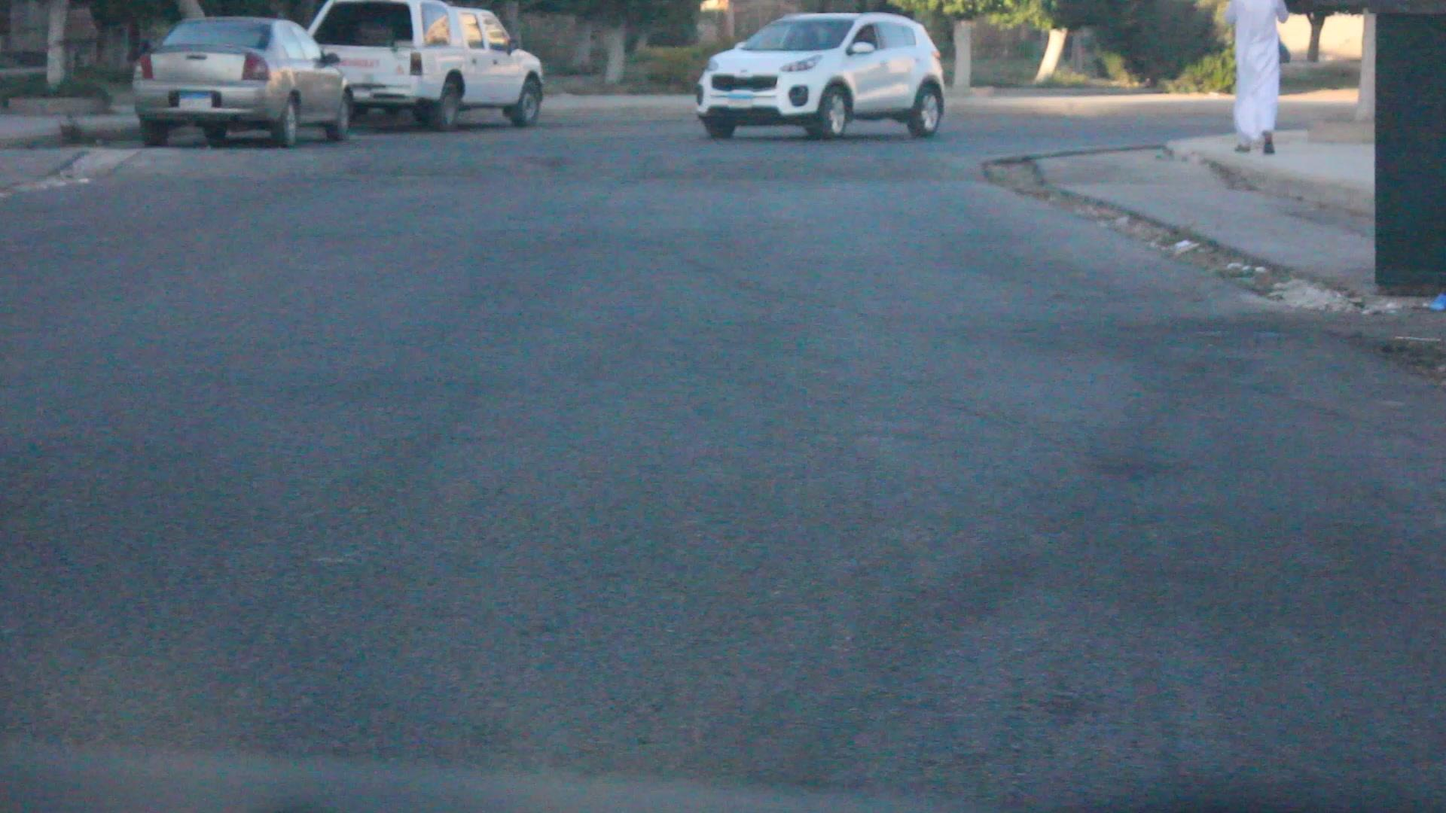Bump: (81, 141, 994, 188)
